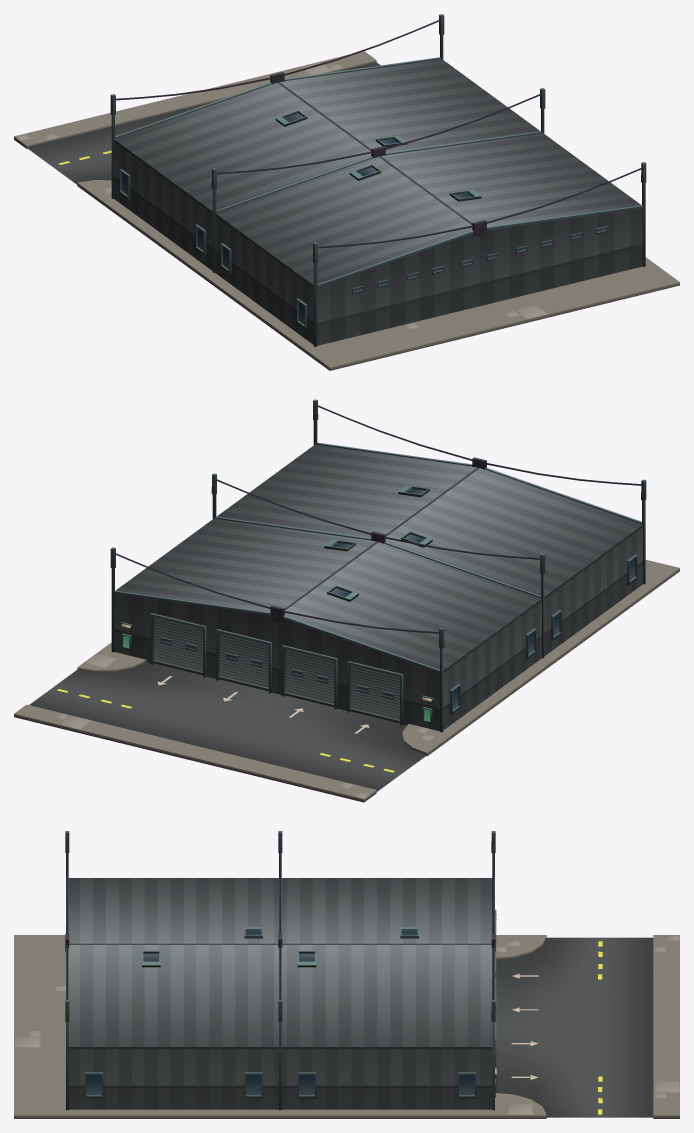
File: Warehouse_3A.fbx
The picture shows the model from 3 angles, top to bottom: view 1: azimuth 30°, elevation 25°; view 2: azimuth 150°, elevation 25°; view 3: azimuth 270°, elevation 25°; orthographic projection. The views are drawn at different scales.
Parts seen in each view (by area): view 1: Warehouse_3A, Warehouse_3A_Base; view 2: Warehouse_3A, Warehouse_3A_Base, Warehouse_3A_Door_M2, Warehouse_3A_Door_R, Warehouse_3A_Door_M1, Warehouse_3A_Door_L; view 3: Warehouse_3A, Warehouse_3A_Base.
Boxes of the visible parts, x1,y1,x2,y2 form: Warehouse_3A: [110, 14, 646, 346]; Warehouse_3A_Base: [14, 51, 679, 370]; Warehouse_3A: [110, 399, 646, 732]; Warehouse_3A_Base: [14, 559, 679, 802]; Warehouse_3A_Door_M2: [284, 649, 334, 706]; Warehouse_3A_Door_R: [350, 665, 399, 723]; Warehouse_3A_Door_M1: [219, 633, 268, 691]; Warehouse_3A_Door_L: [153, 617, 202, 675]; Warehouse_3A: [65, 831, 496, 1110]; Warehouse_3A_Base: [14, 935, 679, 1118].
Size of the model in its own units: 32 by 9.32 by 50.
